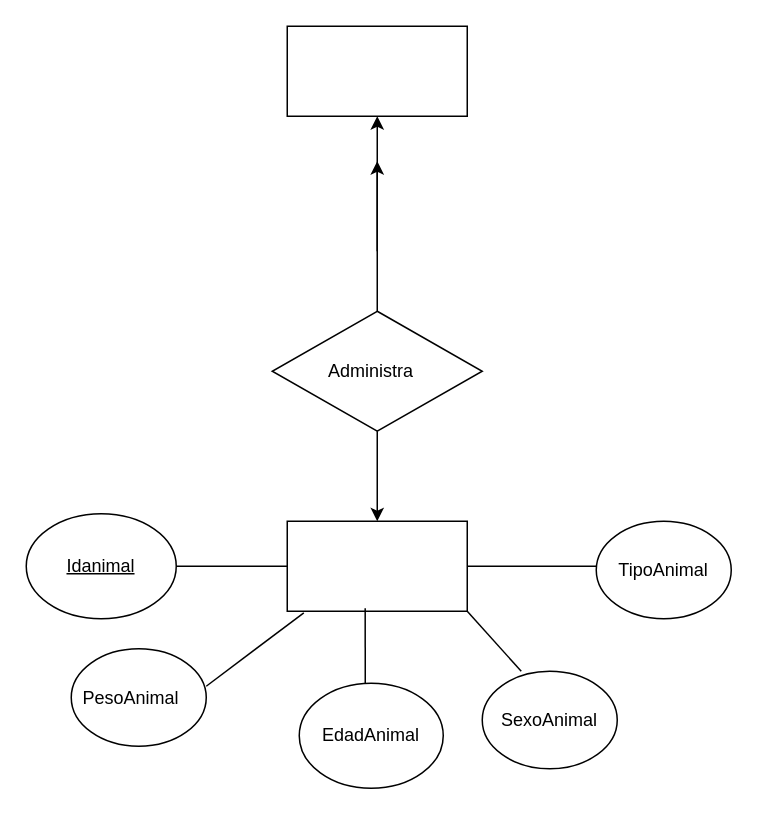
Image size: 758x815. Some labels were removed from this diagram. Here are the shapes that lost their labels. From the top down, the box of each, then its label:
(286, 25, 467, 116): Administrador
(286, 520, 467, 611): Zoologico
